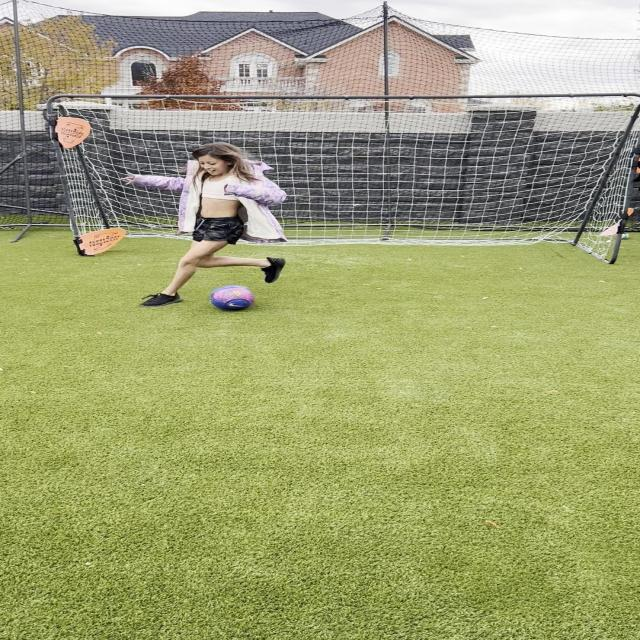Soccer Ball: (209, 285, 255, 311)
